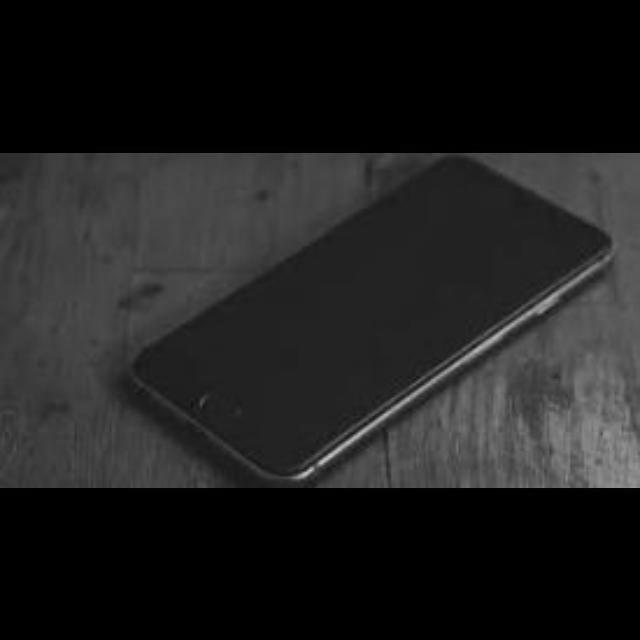fake: (114, 153, 640, 484)
